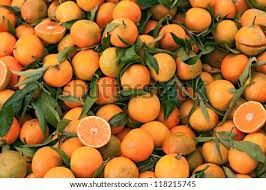orange: (121, 127, 153, 159), (121, 63, 149, 95), (72, 51, 98, 78), (192, 104, 217, 131)
